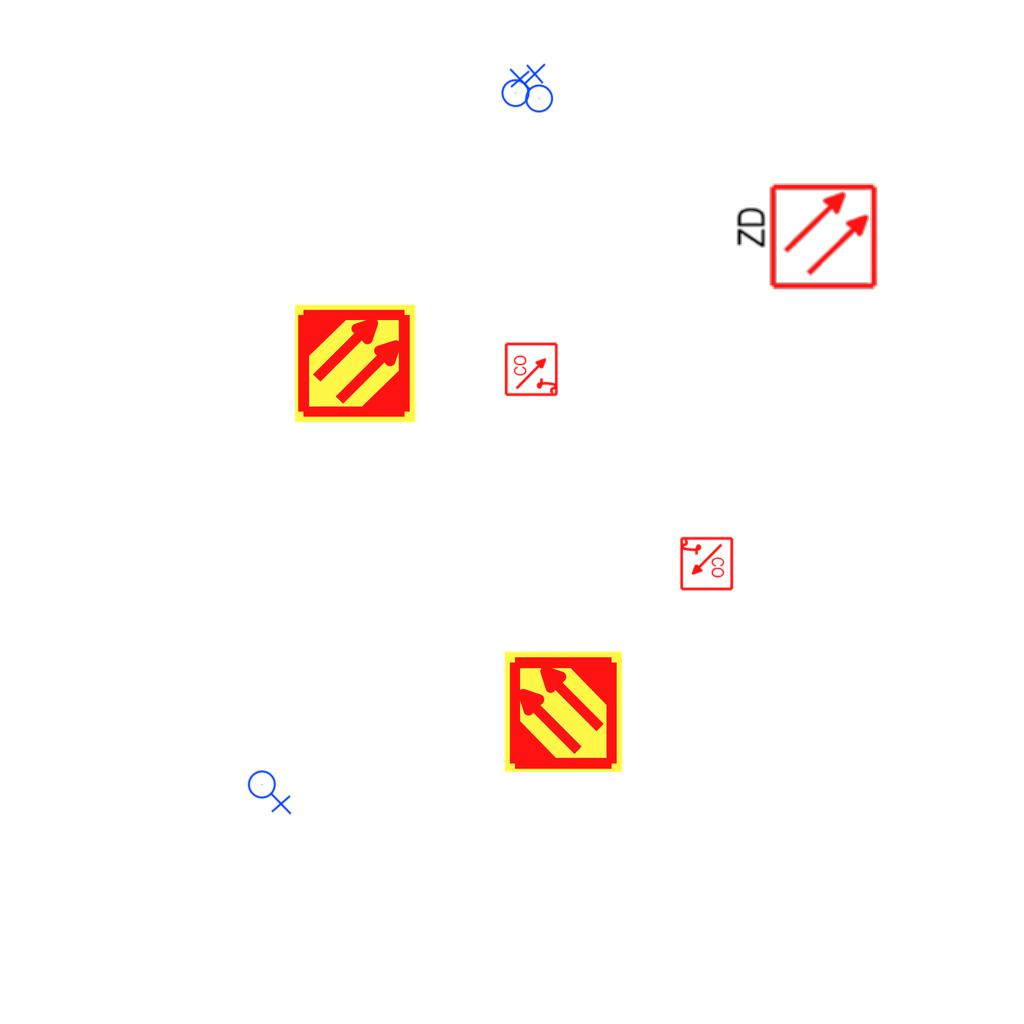ASR_Ansaugrauchmelder: (293, 301, 418, 426), (501, 649, 626, 774)
Elektroanschluss_allgemein_230V_Geraeteanschlussdose_230V: (497, 61, 546, 108), (247, 766, 294, 815), (507, 68, 554, 117)
ROA_Rauchmelder_optisch_mit_Signalgeber_(Sockelsirene): (678, 536, 734, 592), (504, 341, 560, 397)
ZD_Melder_in_Zwischendecke_mit_Revisionsoeffnung_mind_40_x_40_cm: (730, 181, 879, 295)
